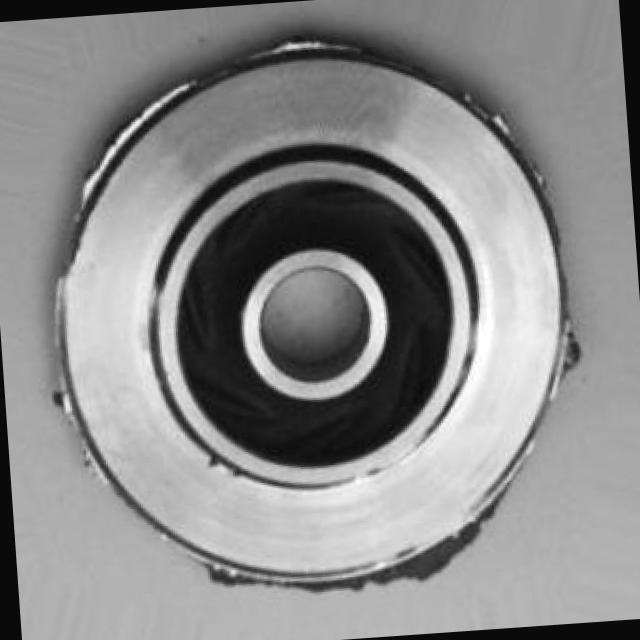Defect: (200, 443, 234, 482)
